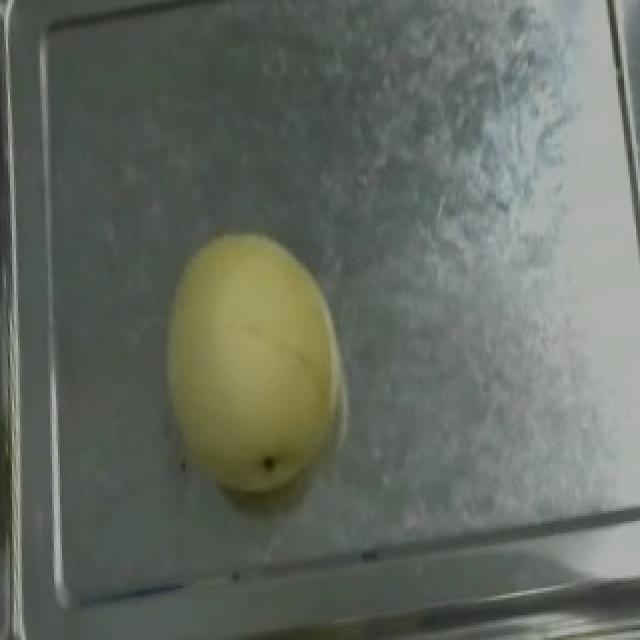Fruit: (144, 216, 368, 511)
